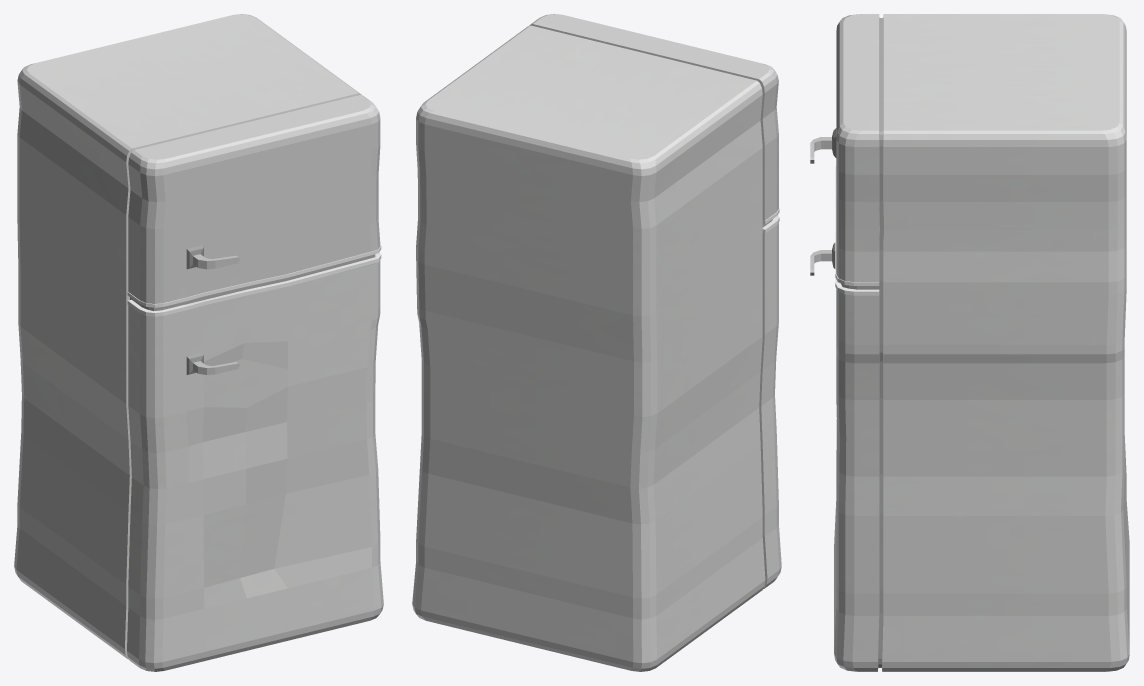
The model's file is fridge_1.glb.
The picture shows the model from 3 angles, left to right: view 1: azimuth 30°, elevation 25°; view 2: azimuth 150°, elevation 25°; view 3: azimuth 270°, elevation 25°; orthographic projection. The views are drawn at different scales.
Parts seen in each view (by area): view 1: fridge; view 2: fridge; view 3: fridge.
Boxes of the visible parts, bbox=[...] form: fridge: bbox=[14, 14, 383, 671]; fridge: bbox=[412, 14, 781, 671]; fridge: bbox=[810, 14, 1129, 671].
Size of the model in its own units: 0.7197 by 1.45 by 0.7768.
Materials: 1 (1 with a texture image).
